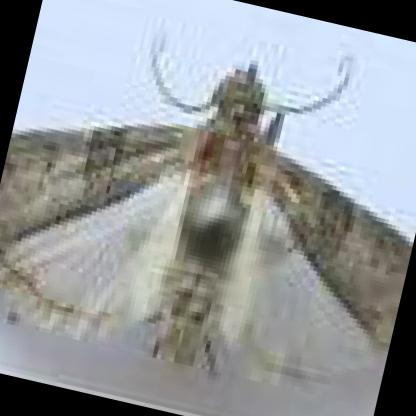Leaf Webber: (0, 72, 409, 389)
